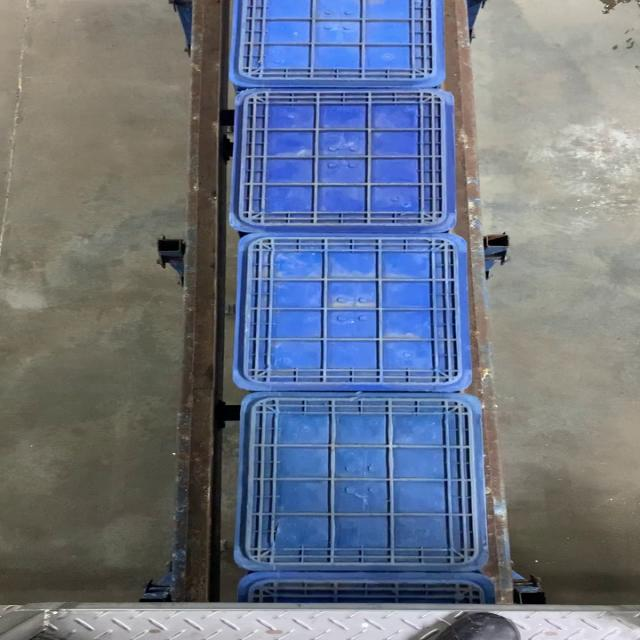Box: (235, 393, 488, 573), (231, 233, 477, 393), (228, 87, 462, 233)
